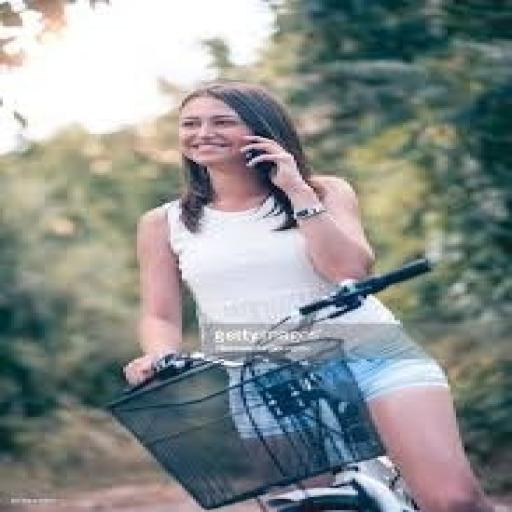calling: (120, 80, 501, 510)
